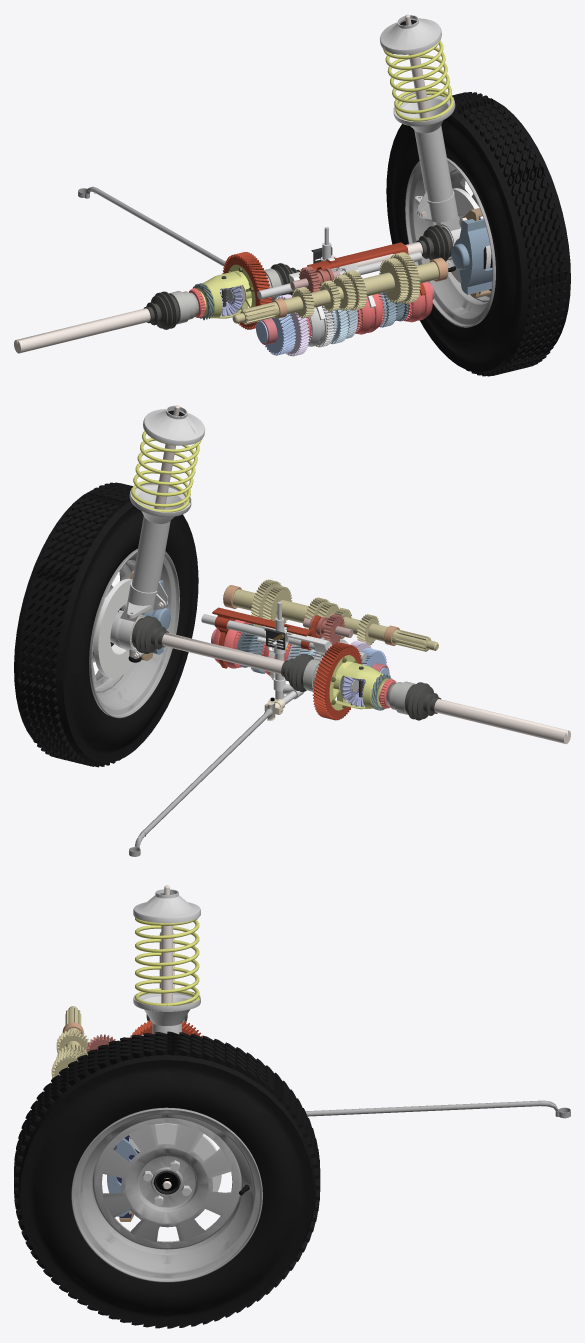
The model's file is manual transmission gearbox with differential.glb.
3 views of the same model, one above another, from view 1: azimuth 30°, elevation 25°; view 2: azimuth 150°, elevation 25°; view 3: azimuth 270°, elevation 25° (orthographic). The views are drawn at different scales.
Parts seen in each view (by area): view 1: TYRE-LH-F, Input Shaft, WHEEL-LH-F, MAC-2-LH-F, SPRING-2-LH-F, Right Wheel Axle Shaft, CALIP-2-LH-F, MAC-1-LH-F, Housing.001, Ring Gear, HUB CAR-LH-F, GEAR CHANGE-5 (+14 smaller); view 2: TYRE-LH-F, WHEEL-LH-F, Input Shaft, MAC-2-LH-F, DISK-LH-F, SPRING-2-LH-F, Right Wheel Axle Shaft, MAC-1-LH-F, Left Wheel Axle Shaft, Ring Gear, HUB CAR-LH-F, Housing.001 (+9 smaller); view 3: TYRE-LH-F, WHEEL-LH-F, SPRING-2-LH-F, GEAR CHANGE-5, MAC-1-LH-F, MAC-2-LH-F, Input Shaft, DISK-LH-F, ROD-2-LH-F, CALIP-1-LH-F.
Part boxes in pixels (<box>): TYRE-LH-F: <box>386,92,570,376</box>; Input Shaft: <box>232,252,448,324</box>; WHEEL-LH-F: <box>405,158,495,327</box>; MAC-2-LH-F: <box>393,91,455,213</box>; SPRING-2-LH-F: <box>383,39,451,113</box>; Right Wheel Axle Shaft: <box>14,308,150,353</box>; CALIP-2-LH-F: <box>451,219,484,294</box>; MAC-1-LH-F: <box>380,15,441,54</box>; Housing.001: <box>196,264,255,318</box>; Ring Gear: <box>222,252,272,329</box>; HUB CAR-LH-F: <box>415,190,463,266</box>; GEAR CHANGE-5: <box>78,186,225,266</box>; TYRE-LH-F: <box>14,482,198,767</box>; WHEEL-LH-F: <box>89,548,179,718</box>; Input Shaft: <box>223,579,438,651</box>; MAC-2-LH-F: <box>129,483,191,605</box>; DISK-LH-F: <box>93,578,133,678</box>; SPRING-2-LH-F: <box>131,431,201,507</box>; Right Wheel Axle Shaft: <box>434,699,570,744</box>; MAC-1-LH-F: <box>143,405,205,445</box>; Left Wheel Axle Shaft: <box>162,632,284,674</box>; Ring Gear: <box>312,642,362,720</box>; HUB CAR-LH-F: <box>110,581,167,658</box>; Housing.001: <box>329,655,388,710</box>; TYRE-LH-F: <box>14,1031,320,1328</box>; WHEEL-LH-F: <box>71,1107,262,1282</box>; SPRING-2-LH-F: <box>135,917,199,1006</box>; GEAR CHANGE-5: <box>305,1100,570,1118</box>; MAC-1-LH-F: <box>133,889,200,923</box>; MAC-2-LH-F: <box>133,990,200,1034</box>; Input Shaft: <box>51,1006,88,1083</box>; DISK-LH-F: <box>129,1123,221,1191</box>; ROD-2-LH-F: <box>161,885,172,1003</box>; CALIP-1-LH-F: <box>107,1138,137,1216</box>.
Bounding box in the file's own units: 32.14 × 22.74 × 29.02.
